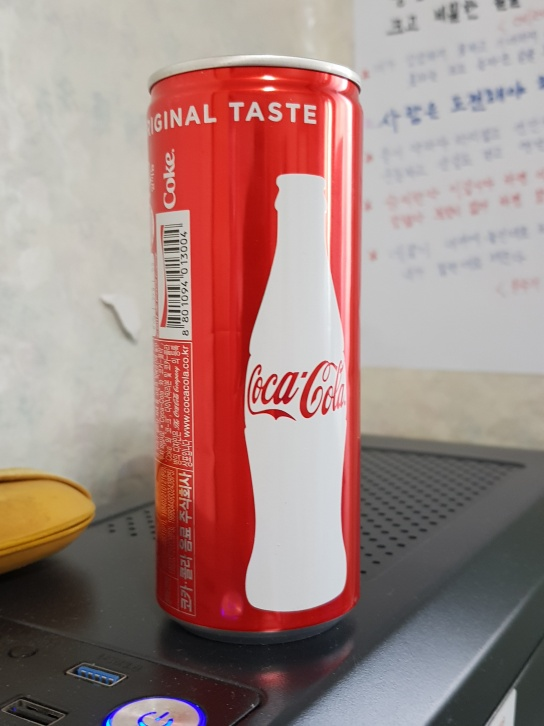Can: (144, 54, 365, 650)
